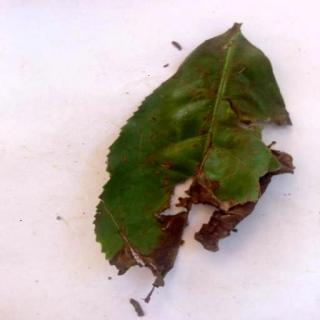Brown Blight: (96, 22, 296, 320)
